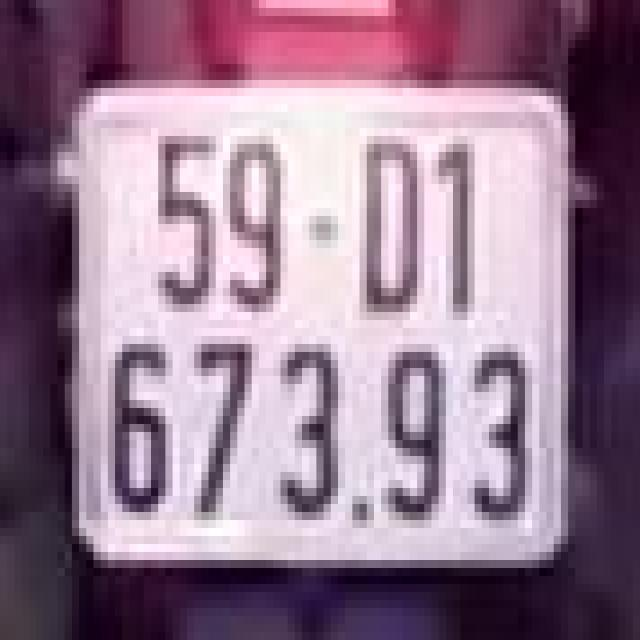1: (435, 132, 493, 324)
3: (266, 332, 352, 532), (460, 332, 540, 524)
5: (158, 124, 223, 316)
6: (86, 332, 173, 524)
7: (165, 324, 266, 524)
9: (226, 124, 298, 324), (374, 328, 446, 528)
D: (345, 116, 439, 340)
